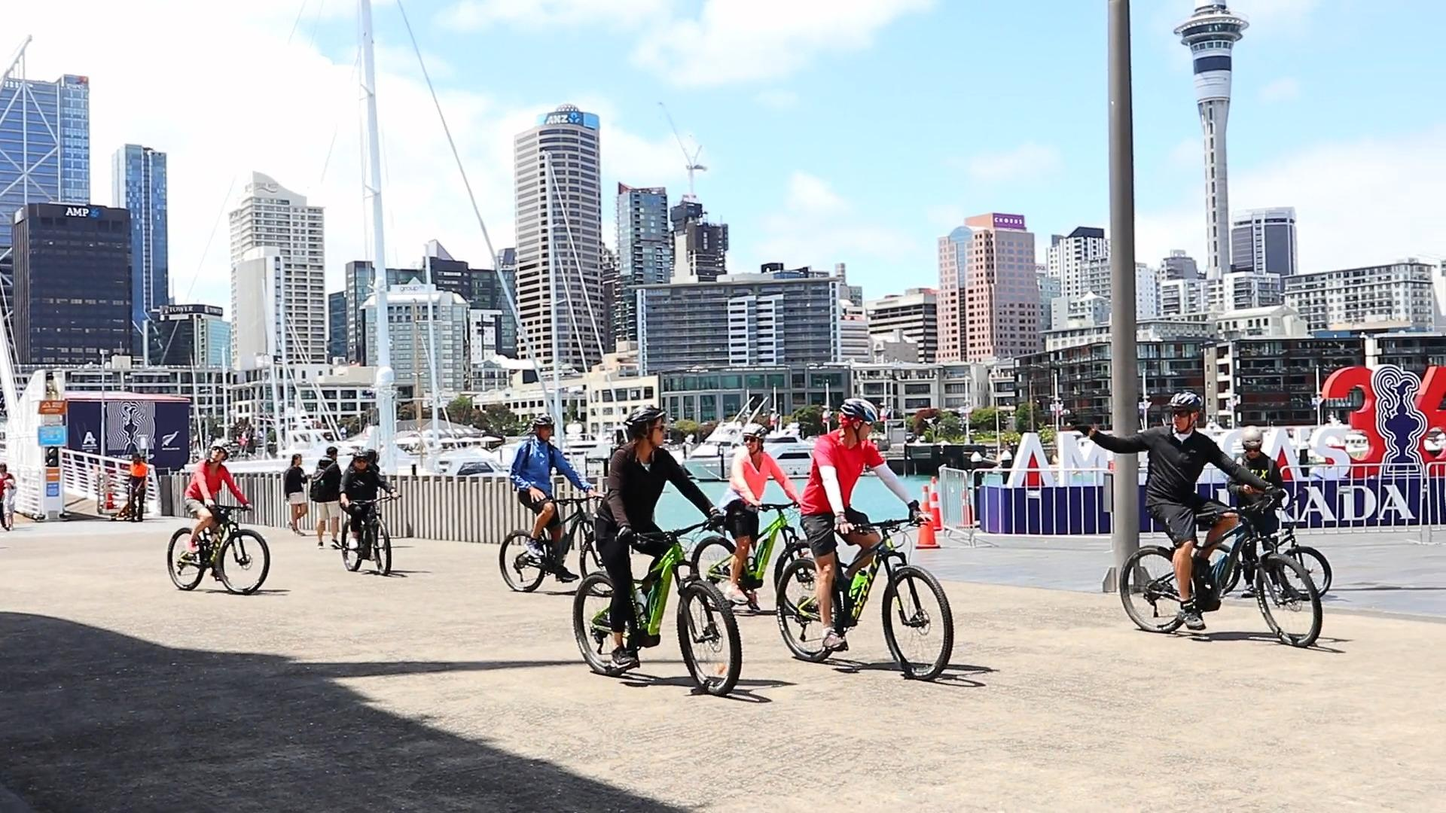bicyclist: (1060, 390, 1323, 648), (776, 398, 954, 680), (572, 405, 743, 697), (689, 423, 821, 622), (499, 414, 614, 597), (166, 440, 270, 595), (338, 449, 402, 576)
helmet: (622, 405, 666, 451), (838, 398, 878, 445), (1167, 391, 1201, 434), (743, 423, 769, 455), (1242, 425, 1263, 460), (533, 414, 555, 443), (210, 440, 231, 463)
